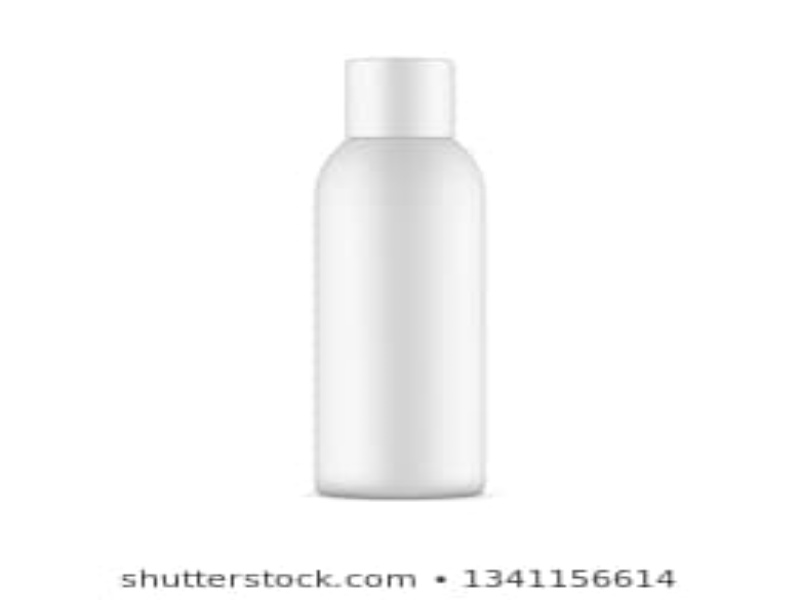shampoo-bottle: (313, 53, 491, 502)
